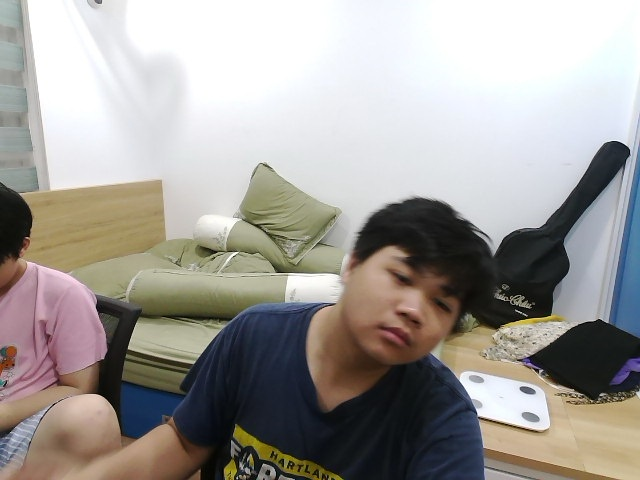face: (341, 198, 488, 367)
